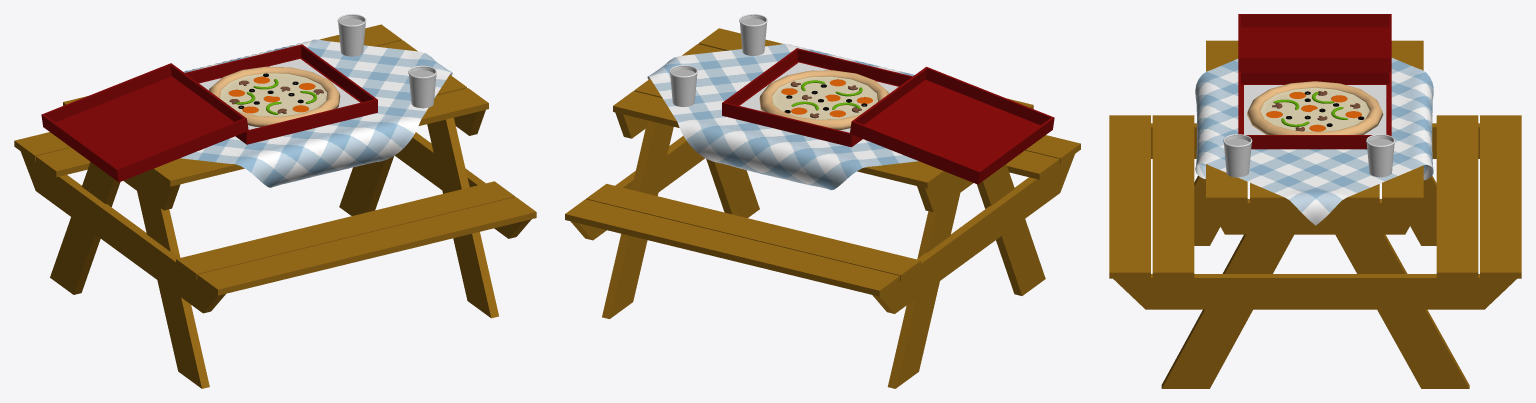
File: table_2.fbx
3 renders of one model, left to right at view 1: azimuth 30°, elevation 25°; view 2: azimuth 150°, elevation 25°; view 3: azimuth 270°, elevation 25°, orthographic. The views are drawn at different scales.
Visible parts, largest first — view 1: polySurface167; view 2: polySurface167; view 3: polySurface167.
Part boxes in pixels (<box>): polySurface167: <box>14,14,536,388</box>; polySurface167: <box>565,14,1080,388</box>; polySurface167: <box>1109,14,1521,388</box>.
Size of the model in its own units: 0.4761 by 0.282 by 0.4586.
Materials: 27 (1 with a texture image).
